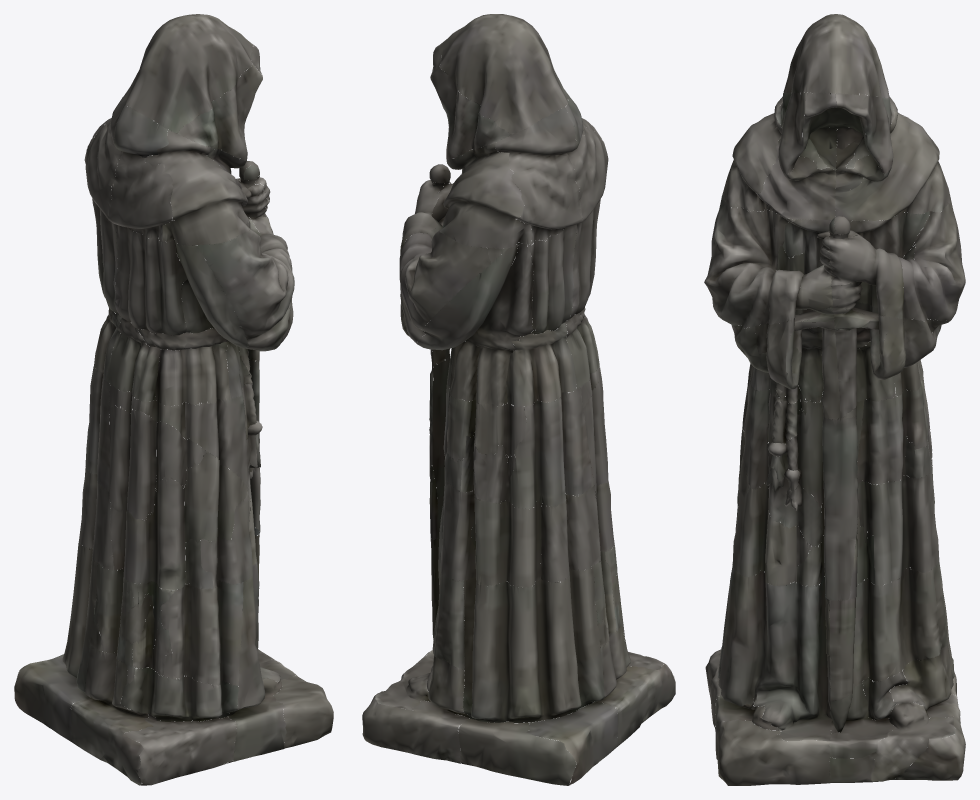
Rendered from statue_guardian.glb.
The picture shows the model from 3 angles, left to right: view 1: azimuth 30°, elevation 25°; view 2: azimuth 150°, elevation 25°; view 3: azimuth 270°, elevation 25°; orthographic projection. The views are drawn at different scales.
Visible parts, largest first — view 1: tripo_node_07d59b5c-c3b1-4242-a262-c27a8c5691be; view 2: tripo_node_07d59b5c-c3b1-4242-a262-c27a8c5691be; view 3: tripo_node_07d59b5c-c3b1-4242-a262-c27a8c5691be.
Part boxes in pixels (x1,y1,x2,y2): tripo_node_07d59b5c-c3b1-4242-a262-c27a8c5691be: (14,14,333,785); tripo_node_07d59b5c-c3b1-4242-a262-c27a8c5691be: (362,14,675,785); tripo_node_07d59b5c-c3b1-4242-a262-c27a8c5691be: (704,14,965,785).
Size of the model in its own units: 0.3221 by 1 by 0.3285.
Materials: 1 (1 with a texture image).
